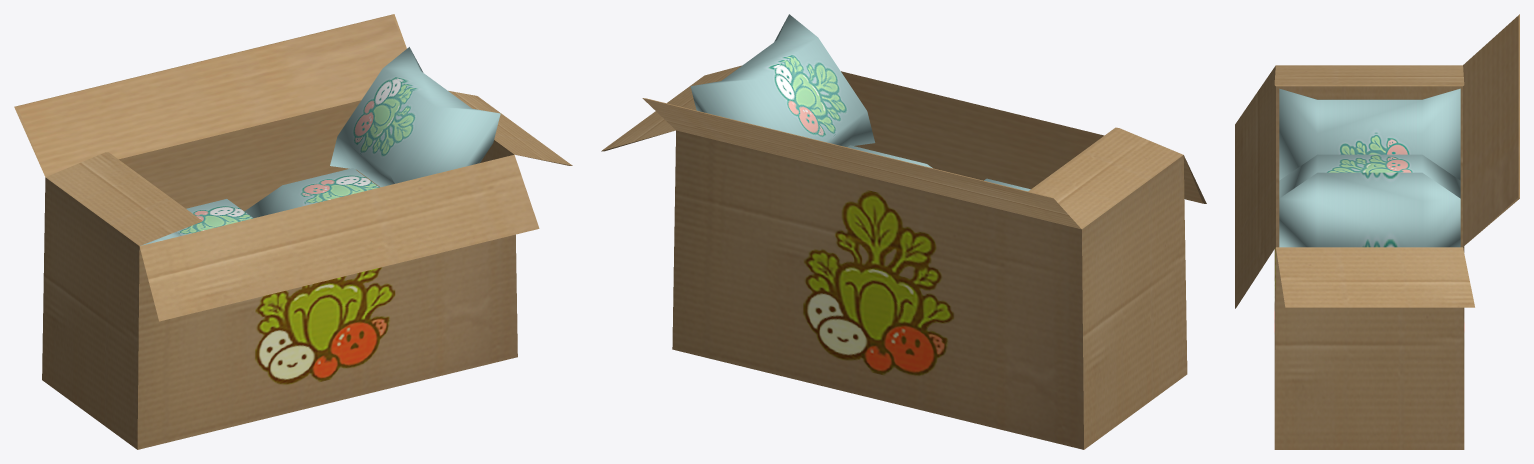
The model's file is LettuceBox.fbx.
The picture shows the model from 3 angles, left to right: view 1: azimuth 30°, elevation 25°; view 2: azimuth 150°, elevation 25°; view 3: azimuth 270°, elevation 25°; orthographic projection. The views are drawn at different scales.
Visible parts, largest first — view 1: Model-295-lp; view 2: Model-295-lp; view 3: Model-295-lp.
Boxes of the visible parts, bbox=[...] form: Model-295-lp: bbox=[14, 14, 572, 449]; Model-295-lp: bbox=[601, 14, 1206, 449]; Model-295-lp: bbox=[1235, 14, 1519, 449].
Bounding box in the file's own units: 121 × 66.09 × 67.89.
